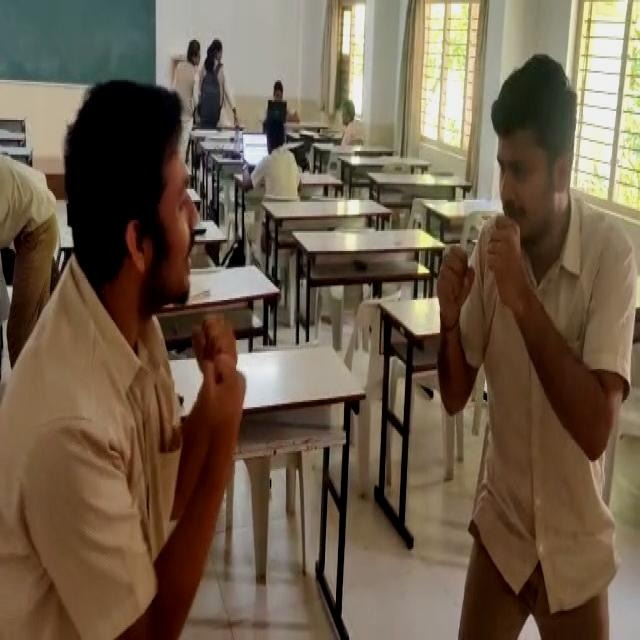fight: (48, 31, 628, 563)
